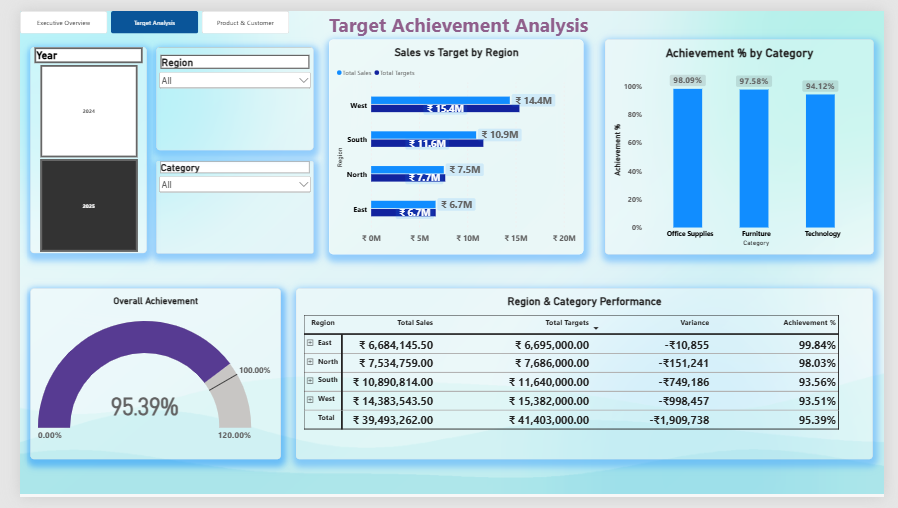

The page's visual inventory and layout, read from the dashboard file:
{"tool":"powerbi","page":{"name":"Target Analysis","canvas":[1920,1080],"ordinal":1},"visuals":[{"type":"textbox","box":[687.1,0,715.8,109.8],"z":0},{"type":"slicer","fields":{"Values":["Calendar.Year"]},"box":[23.9,81.1,257.7,458.1],"z":1},{"type":"slicer","fields":{"Values":["Category.Category"]},"box":[303,334,348.3,205.2],"z":2},{"type":"slicer","fields":{"Values":["Region.Region"]},"box":[303,81.1,348.3,229],"z":3},{"type":"clusteredBarChart","title":"Sales vs Target by Region","fields":{"Category":["Region.Region"],"Y":["sales.Total Sales","sales.Total Targets"]},"box":[687.1,62,565.5,477.2],"z":4},{"type":"clusteredColumnChart","fields":{"Category":["Category.Category"],"Y":["sales.Achievement %"]},"box":[1300.3,62,596.5,477.2],"z":5},{"type":"gauge","title":"Overall Achievement","fields":{"Y":["sales.Achievement %"]},"box":[23.9,615.6,555.9,379.4],"z":6},{"type":"pivotTable","title":"Region & Category Performance","fields":{"Rows":["Region.Region","Category.Category"],"Values":["sales.Total Sales","sales.Total Targets","sales.Veriance","sales.Achievement %"]},"box":[613.2,615.6,1281.2,379.4],"z":7},{"type":"pageNavigator","box":[0,0,600,50],"z":8}]}

Visuals, with their boxes in screenshot pixels (x1, y1, x2, y2), scaled from the page's 1920x1080 canvas onto the 898x508 screenshot:
textbox: left=321, top=0, right=656, bottom=52
slicer - Calendar.Year: left=11, top=38, right=132, bottom=254
slicer - Category.Category: left=142, top=157, right=305, bottom=254
slicer - Region.Region: left=142, top=38, right=305, bottom=146
"Sales vs Target by Region" clusteredBarChart: left=321, top=29, right=586, bottom=254
clusteredColumnChart - Category.Category x sales.Achievement %: left=608, top=29, right=887, bottom=254
"Overall Achievement" gauge: left=11, top=290, right=271, bottom=468
"Region & Category Performance" pivotTable: left=287, top=290, right=886, bottom=468
pageNavigator: left=0, top=0, right=281, bottom=24
